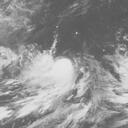cyclone: (34, 52, 95, 105)
